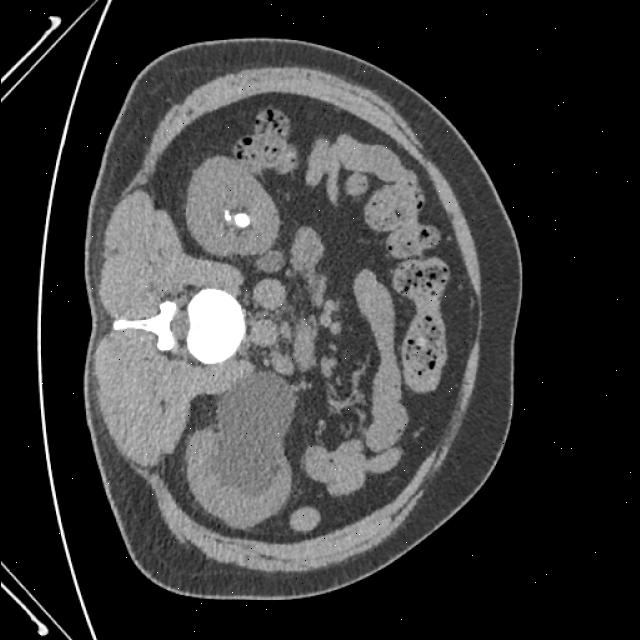kidneystone: (223, 210, 250, 229)
